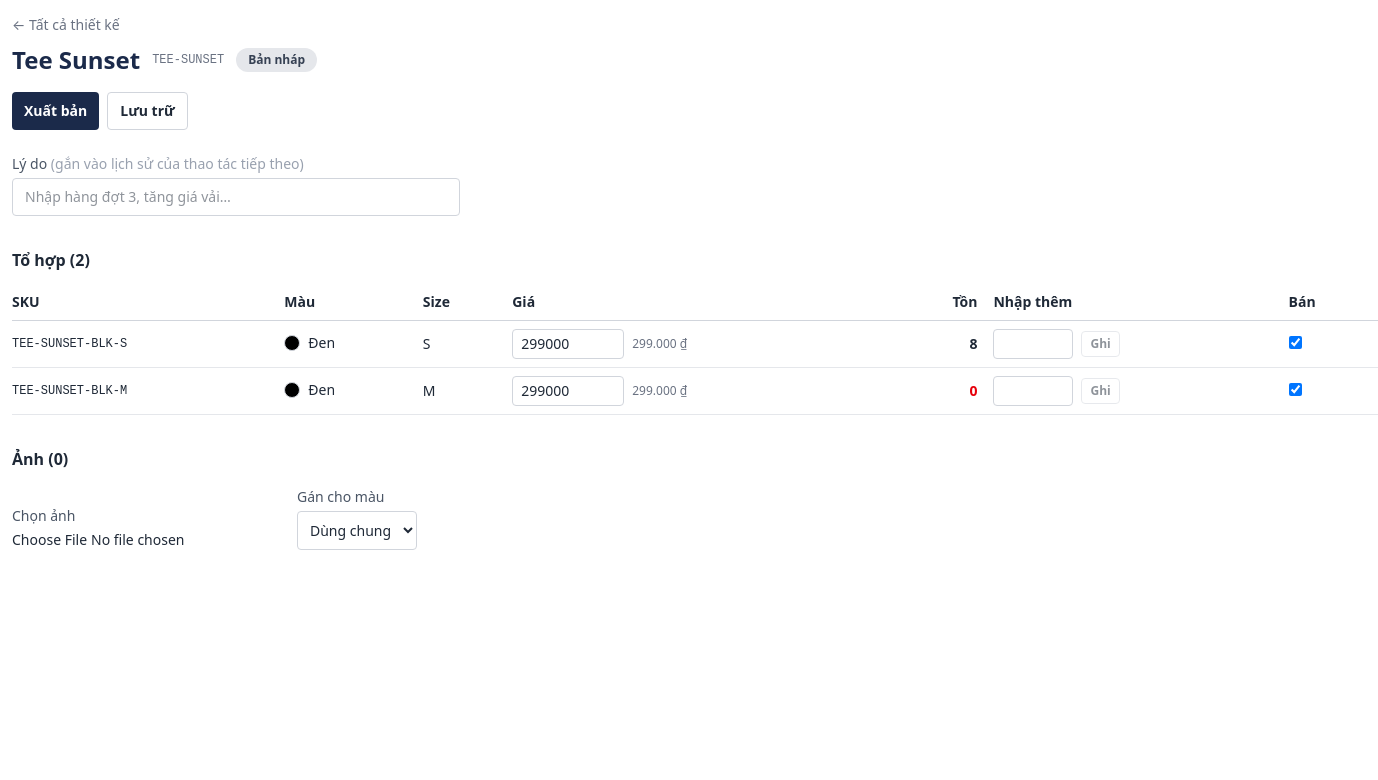
it: AdminProductDetailPage › đổi giá chỉ hiện nút lưu khi giá thực sự khác
The image size is (1378, 780).
Replace the text in the field named "Giá TEE-SUNSET-BLK-S" with "350000" at {"x": 568, "y": 344}, box [512,329,624,359]
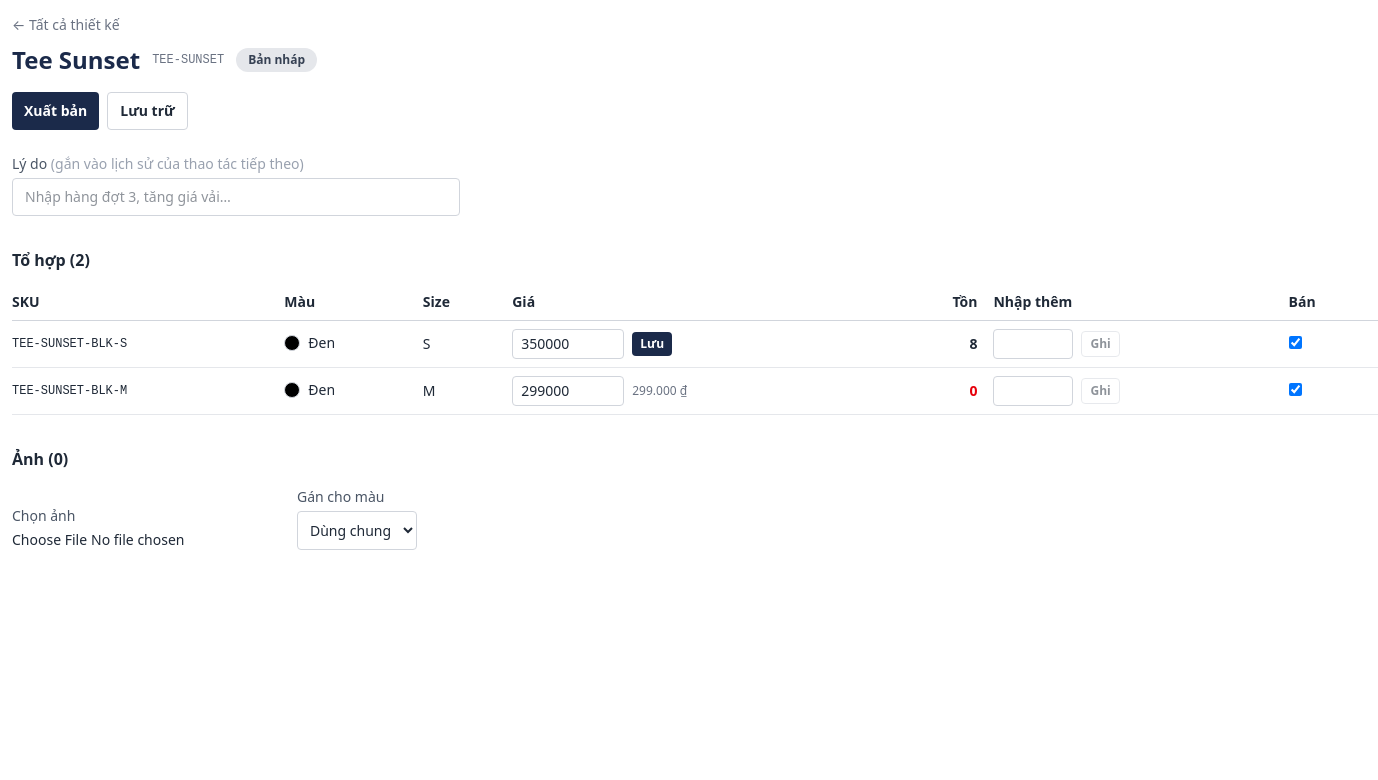
Check: the button "Lưu" is shown, box [632,332,672,356]
